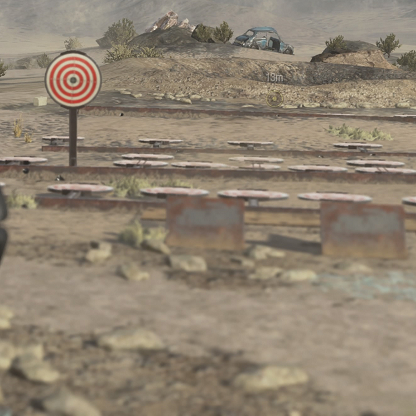target: (44, 51, 101, 110)
